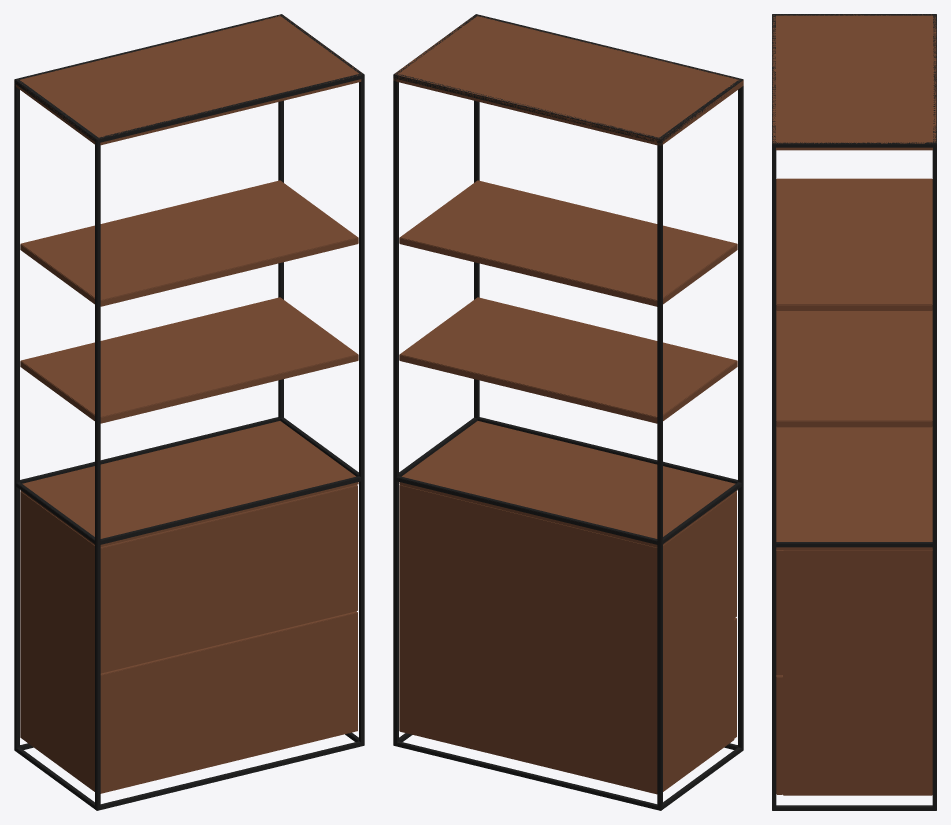
Rendered from model-drawer.glb.
The picture shows the model from 3 angles, left to right: view 1: azimuth 30°, elevation 25°; view 2: azimuth 150°, elevation 25°; view 3: azimuth 270°, elevation 25°; orthographic projection.
Parts seen in each view (by area): view 1: poel-modular-cabinet; view 2: poel-modular-cabinet; view 3: poel-modular-cabinet.
Boxes of the visible parts, x1,y1,x2,y2 form: poel-modular-cabinet: [14, 14, 364, 810]; poel-modular-cabinet: [393, 14, 743, 810]; poel-modular-cabinet: [772, 14, 936, 810].
Size of the model in its own units: 0.84 by 2.01 by 0.45.
